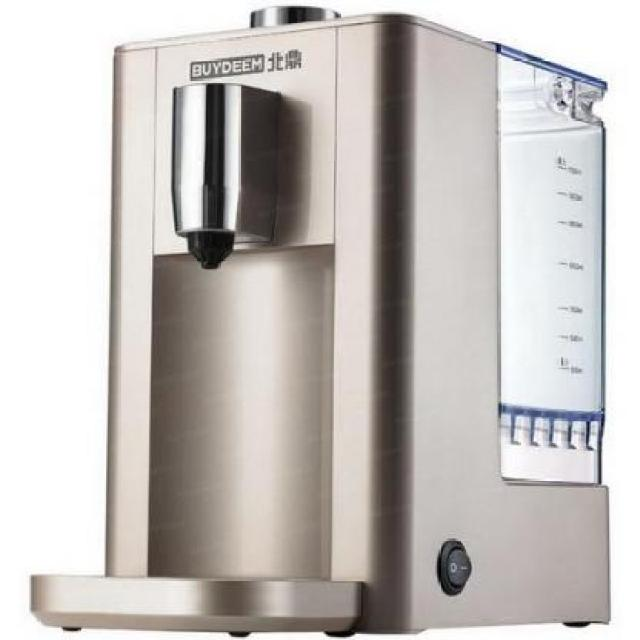cooler: (24, 0, 614, 640)
